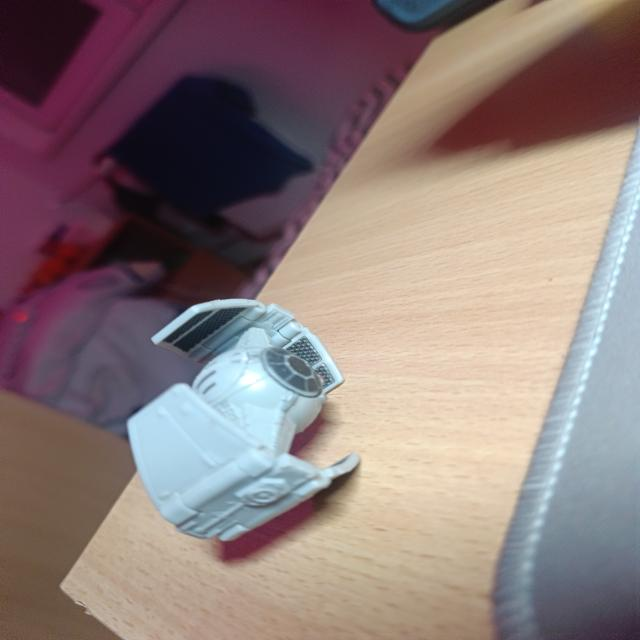tie fighter: (126, 294, 362, 542)
